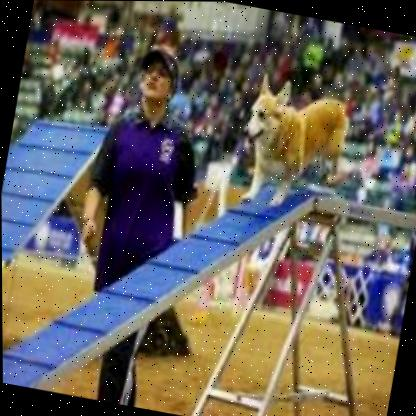dog: (229, 70, 355, 219)
